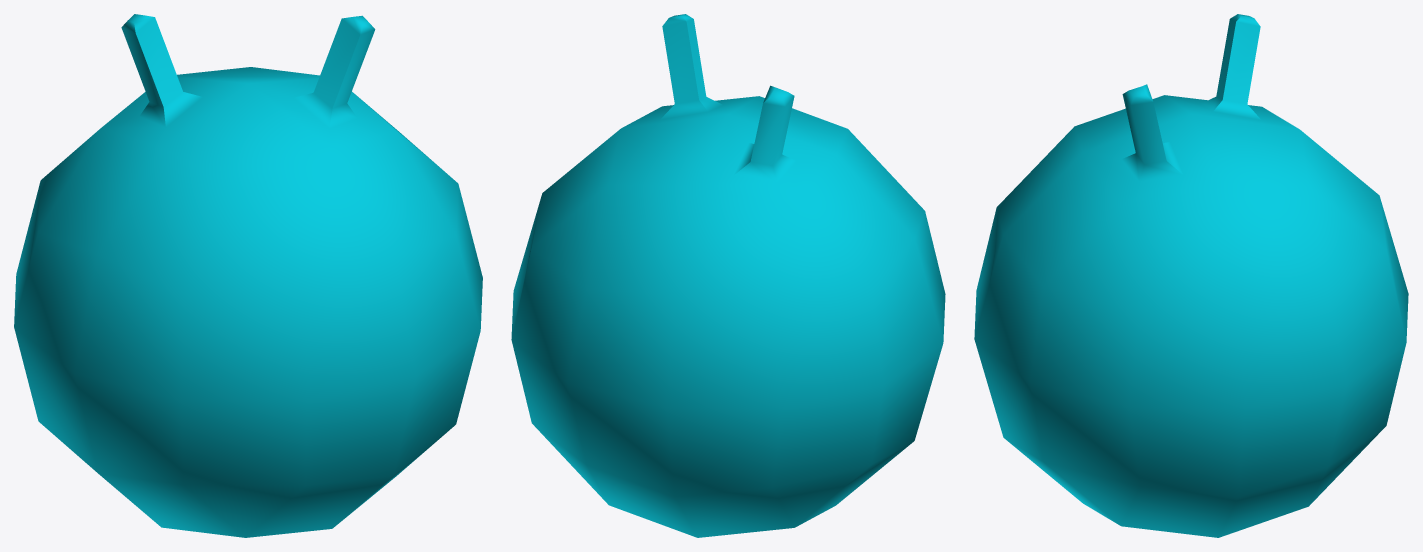
The model's file is entertainment_023.glb.
The picture shows the model from 3 angles, left to right: view 1: azimuth 30°, elevation 25°; view 2: azimuth 150°, elevation 25°; view 3: azimuth 270°, elevation 25°; orthographic projection. The views are drawn at different scales.
Visible parts, largest first — view 1: entertainment_023; view 2: entertainment_023; view 3: entertainment_023.
Boxes of the visible parts, x1,y1,x2,y2 form: entertainment_023: [14, 14, 482, 537]; entertainment_023: [511, 14, 945, 537]; entertainment_023: [974, 14, 1408, 537].
Bounding box in the file's own units: 0.7199 × 0.856 × 0.7199.
1 material, 1 textured.
